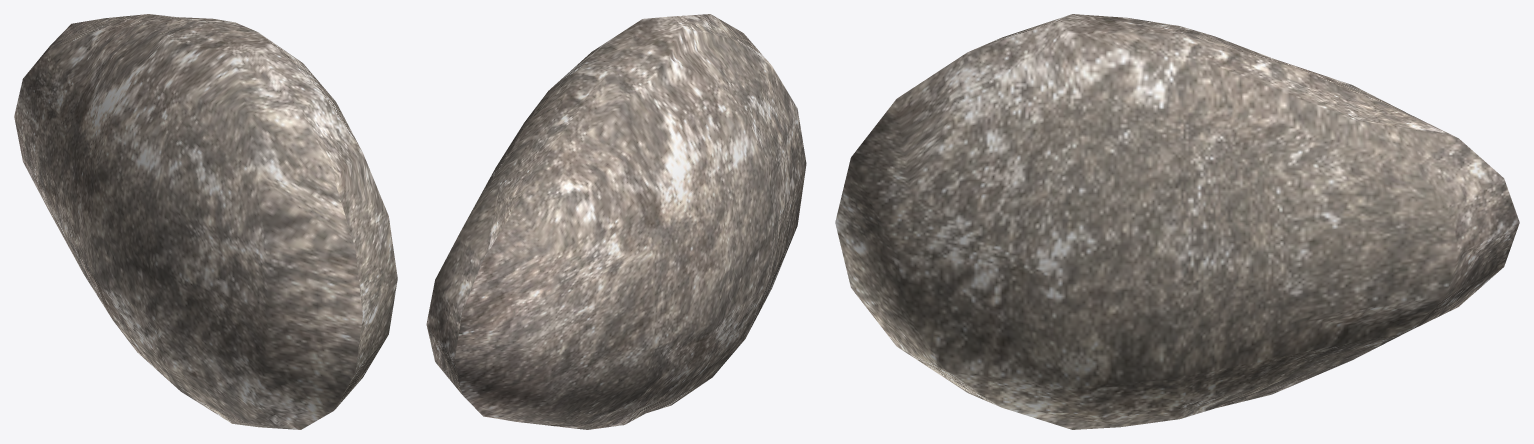
Rendered from Stone.fbx.
3 renders of one model, left to right at view 1: azimuth 30°, elevation 25°; view 2: azimuth 150°, elevation 25°; view 3: azimuth 270°, elevation 25°, orthographic. The views are drawn at different scales.
Parts seen in each view (by area): view 1: Stone; view 2: Stone; view 3: Stone.
Boxes of the visible parts, x1,y1,x2,y2 form: Stone: (14,14,397,429); Stone: (426,14,806,429); Stone: (835,14,1519,429).
Bounding box in the file's own units: 6.71 × 10.93 × 16.93.
Materials: 1 (1 with a texture image).
